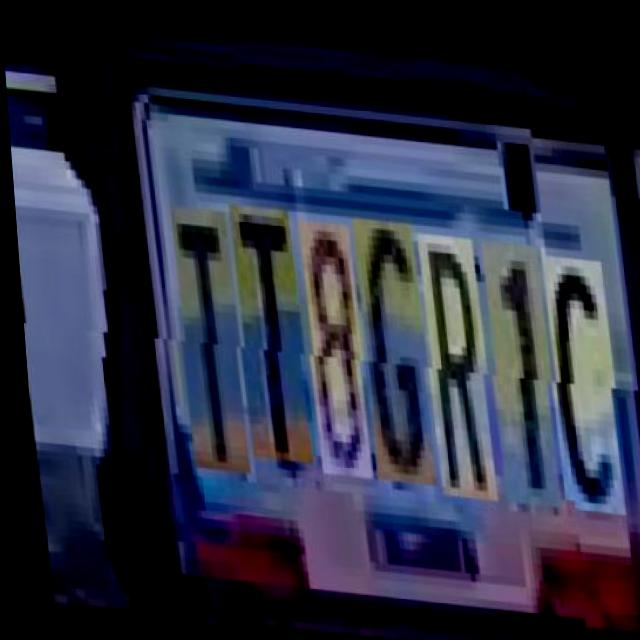1: (474, 229, 554, 496)
8: (292, 214, 366, 472)
c: (534, 234, 617, 493)
g: (346, 209, 430, 477)
r: (410, 223, 491, 491)
t: (223, 199, 306, 457), (164, 202, 244, 469)
